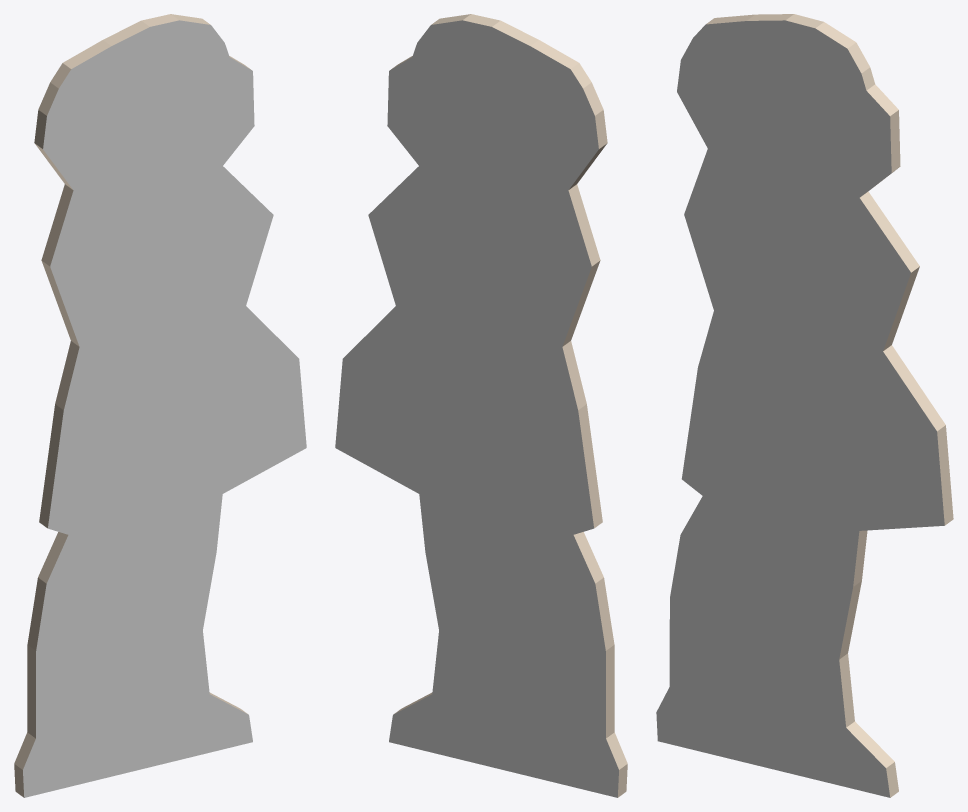
File: tiffanyC.fbx
The picture shows the model from 3 angles, left to right: view 1: azimuth 30°, elevation 25°; view 2: azimuth 150°, elevation 25°; view 3: azimuth 330°, elevation 25°; orthographic projection.
Visible parts, largest first — view 1: Tiffany.001; view 2: Tiffany.001; view 3: Tiffany.001.
Boxes of the visible parts, left/top/right/bottom form: Tiffany.001: left=14, top=14, right=306, bottom=797; Tiffany.001: left=335, top=14, right=627, bottom=797; Tiffany.001: left=656, top=14, right=953, bottom=797.
Size of the model in its own units: 40.29 by 100 by 2.14.
